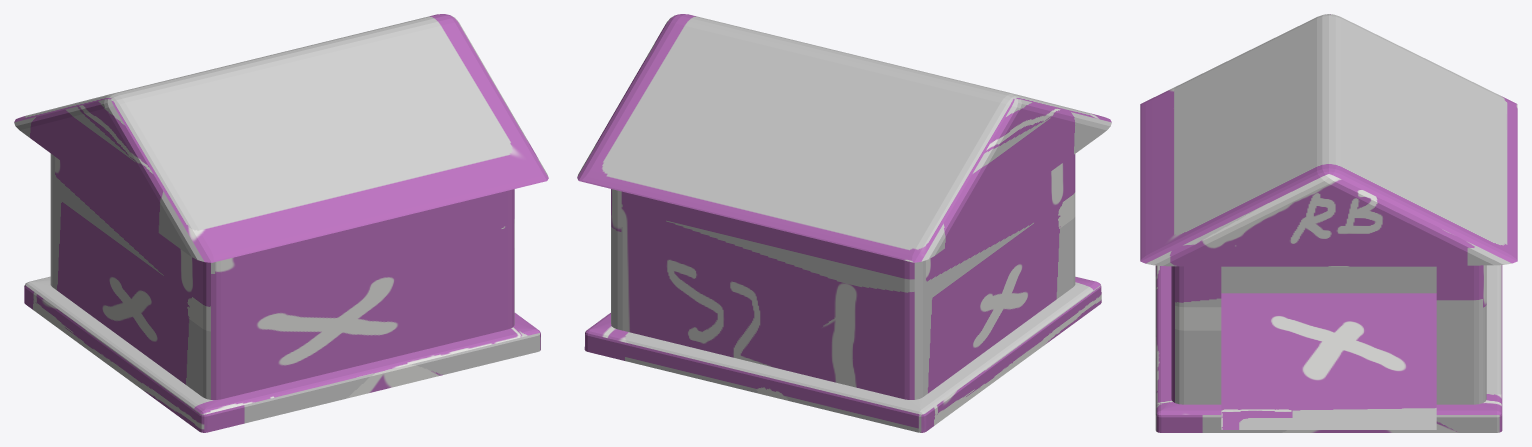
File: depotRounded.fbx
3 views of the same model, side by side, from view 1: azimuth 30°, elevation 25°; view 2: azimuth 150°, elevation 25°; view 3: azimuth 270°, elevation 25° (orthographic). The views are drawn at different scales.
Parts seen in each view (by area): view 1: Cube.005; view 2: Cube.005; view 3: Cube.005.
Boxes of the visible parts, x1,y1,x2,y2 form: Cube.005: (14,14,548,432); Cube.005: (577,14,1111,432); Cube.005: (1140,14,1517,432).
Bounding box in the file's own units: 454 × 334 × 438.
1 material, 1 textured.
